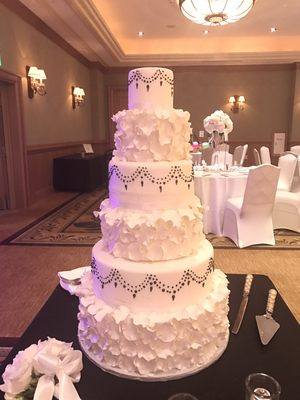pizza: (244, 372, 282, 400)
sandwich: (255, 279, 280, 346)
